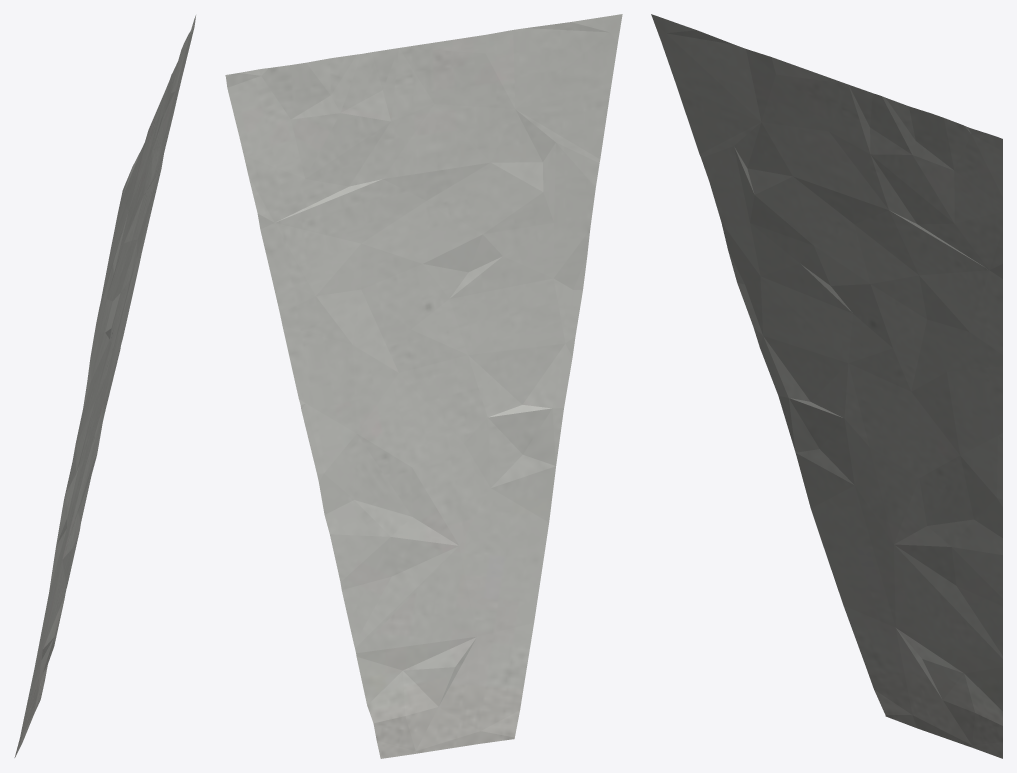
The picture shows the model from 3 angles, left to right: view 1: azimuth 30°, elevation 25°; view 2: azimuth 150°, elevation 25°; view 3: azimuth 270°, elevation 25°; orthographic projection. The views are drawn at different scales.
Bounding box in the file's own units: 0.3193 × 0.8374 × 0.3802.
1 material, 1 textured.
